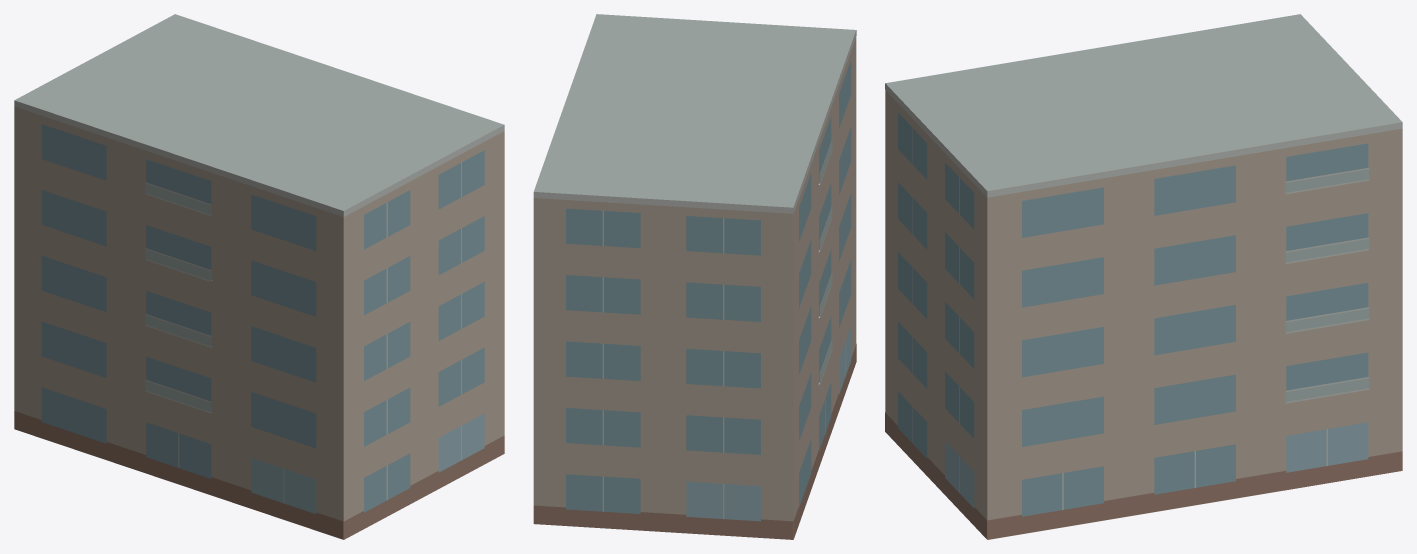
Rendered from survey-upis-32885959.glb.
The picture shows the model from 3 angles, left to right: view 1: azimuth 30°, elevation 25°; view 2: azimuth 150°, elevation 25°; view 3: azimuth 270°, elevation 25°; orthographic projection. The views are drawn at different scales.
Visible parts, largest first — view 1: survey-upis-32885959.tmp; view 2: survey-upis-32885959.tmp; view 3: survey-upis-32885959.tmp.
Part boxes in pixels (x1,y1,x2,y2): survey-upis-32885959.tmp: [14, 14, 504, 539]; survey-upis-32885959.tmp: [533, 14, 856, 539]; survey-upis-32885959.tmp: [885, 14, 1402, 539].
Bounding box in the file's own units: 14.41 × 13.2 × 17.77.
